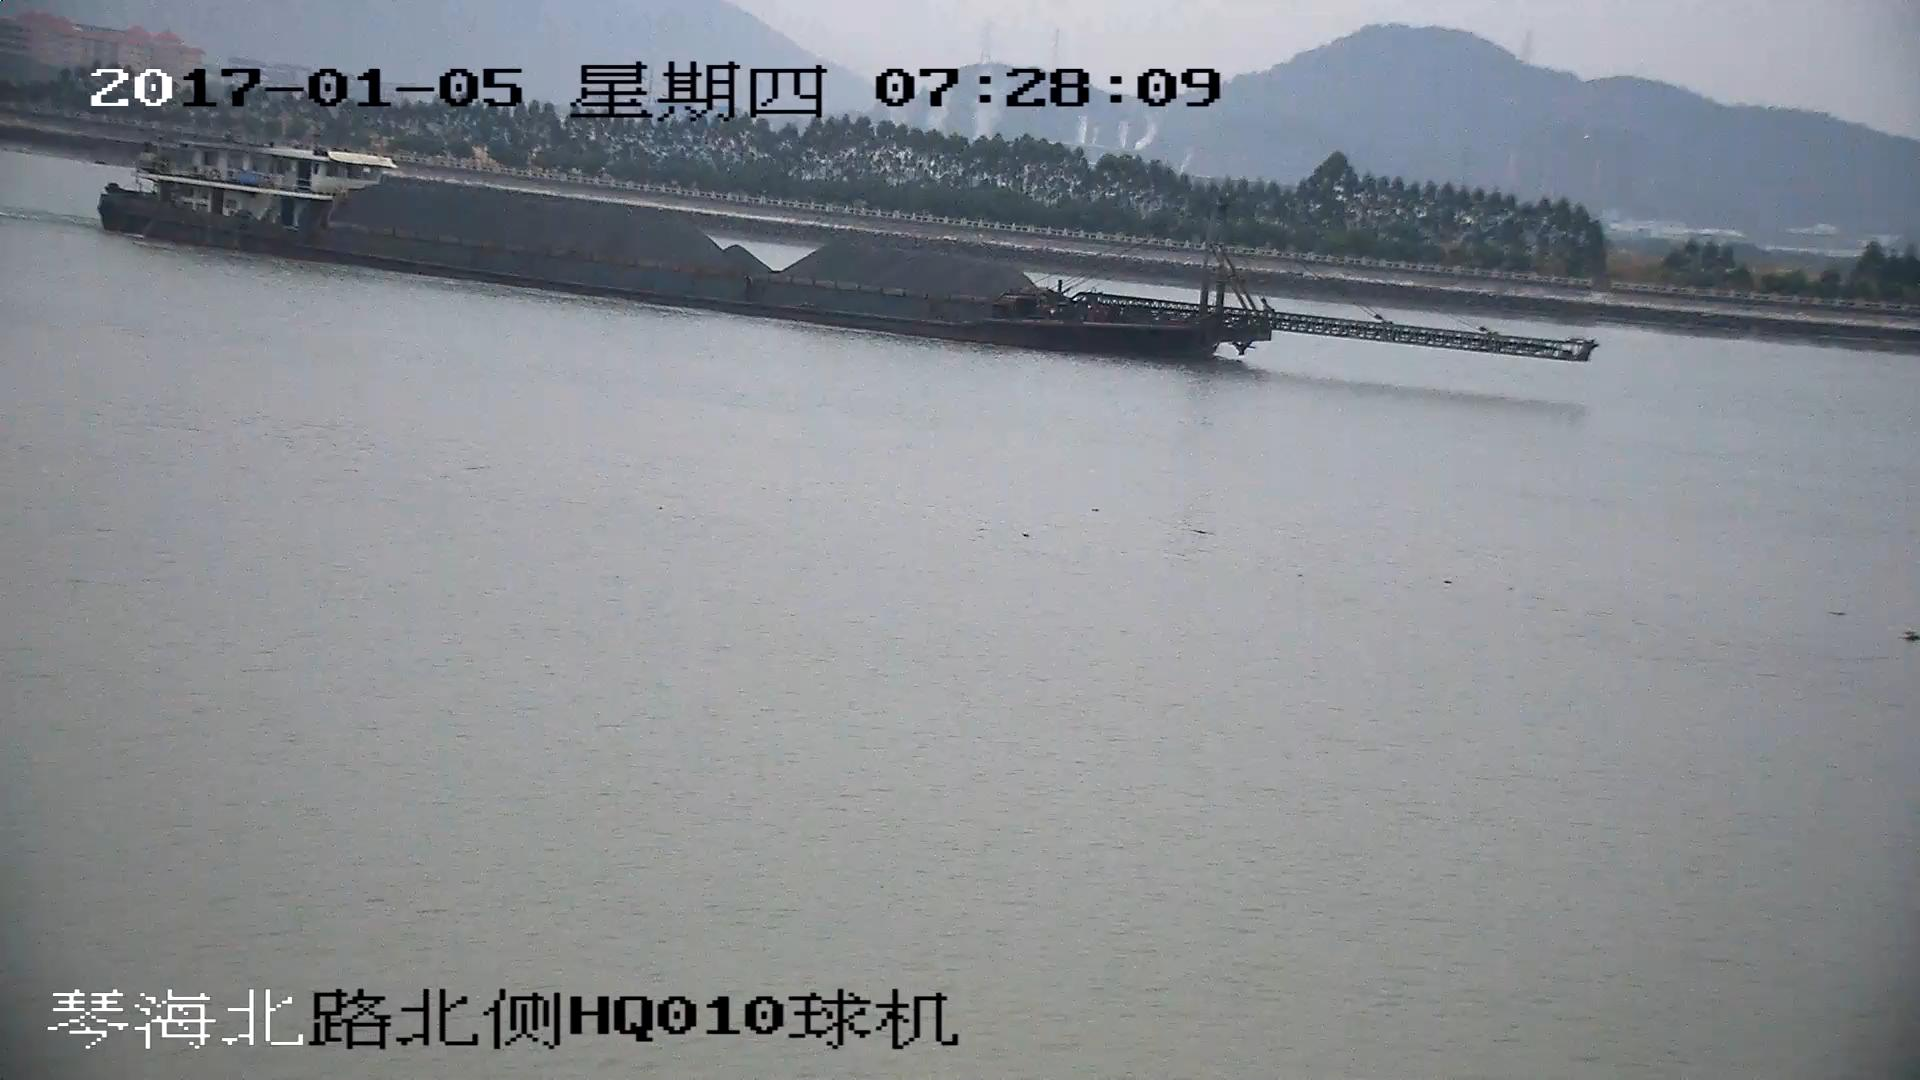ore carrier: (104, 143, 1589, 372)
